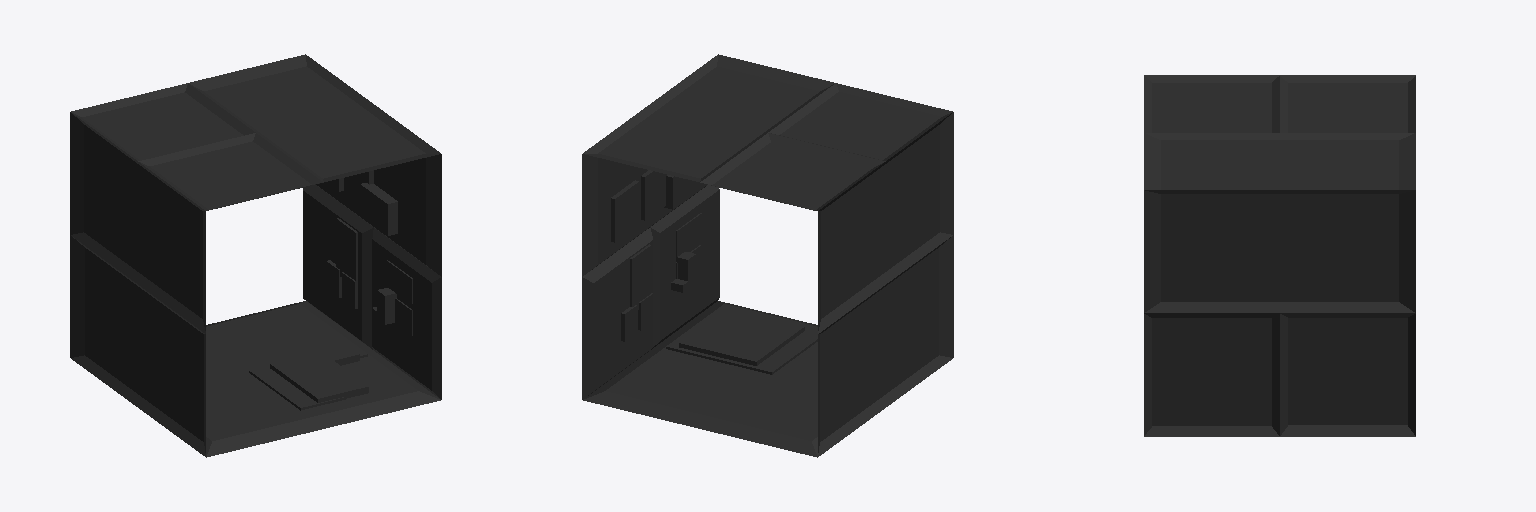
The picture shows the model from 3 angles: view 1: azimuth 30°, elevation 25°; view 2: azimuth 150°, elevation 25°; view 3: azimuth 270°, elevation 25°; orthographic projection.
Visible parts, largest first — view 1: tunnel; view 2: tunnel; view 3: tunnel.
Part boxes in pixels (x1,y1,x2,y2): tunnel: (70,54,441,457); tunnel: (582,54,953,457); tunnel: (1144,75,1415,436).
Bounding box in the file's own units: 15.56 × 15.56 × 15.56.
Materials: 1 (1 with a texture image).